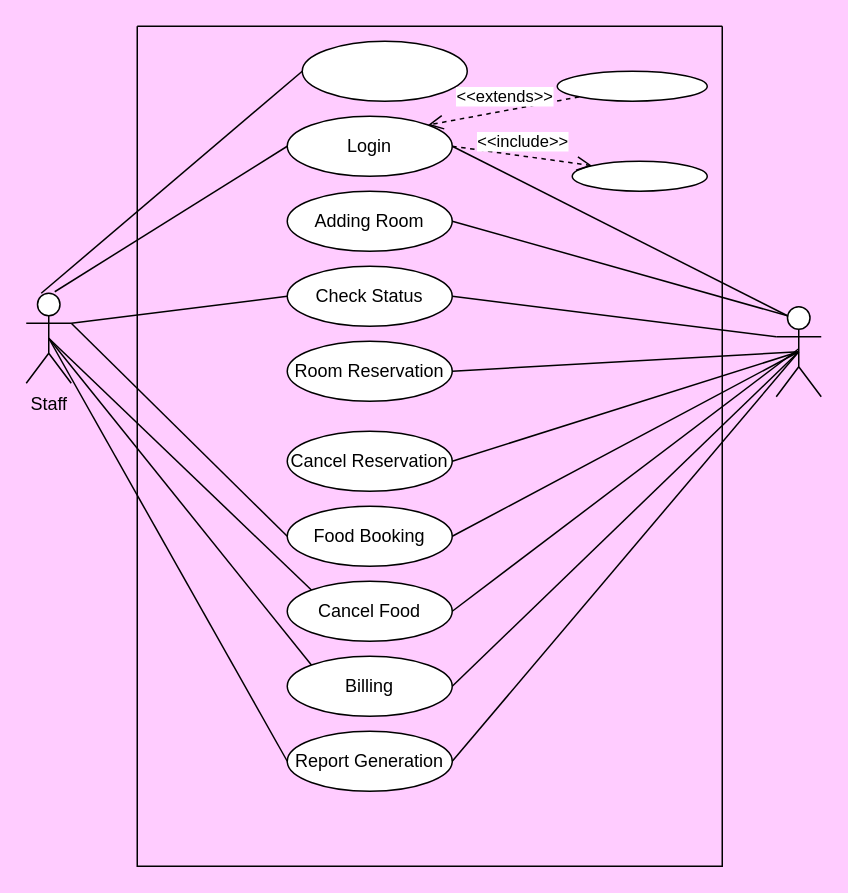
This 848x893 diagram has some shape labels left out. The shapes that lost their labels are listed below. From the top down, each one's box as (x1, y1, x2, y2) in pixels, then its label:
(301, 40, 467, 101): Registration
(556, 70, 707, 101): Error message
(571, 160, 707, 191): Verify login
(775, 305, 821, 397): NDC
